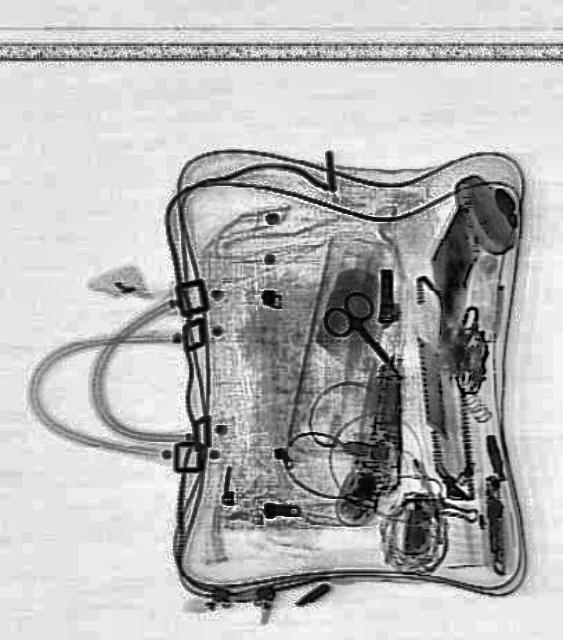Scissors: (317, 283, 415, 389)
